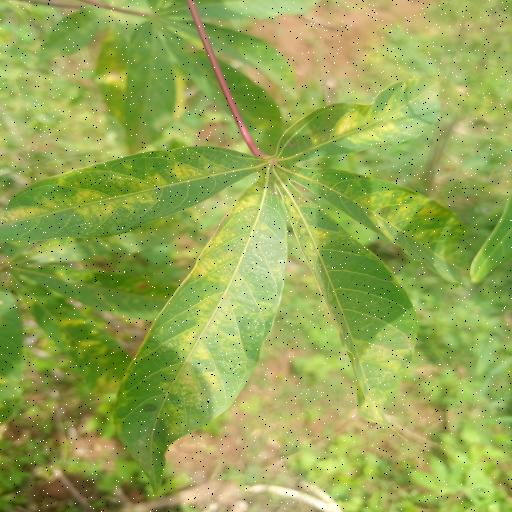Cassava_Mosaic: (1, 78, 474, 494)
